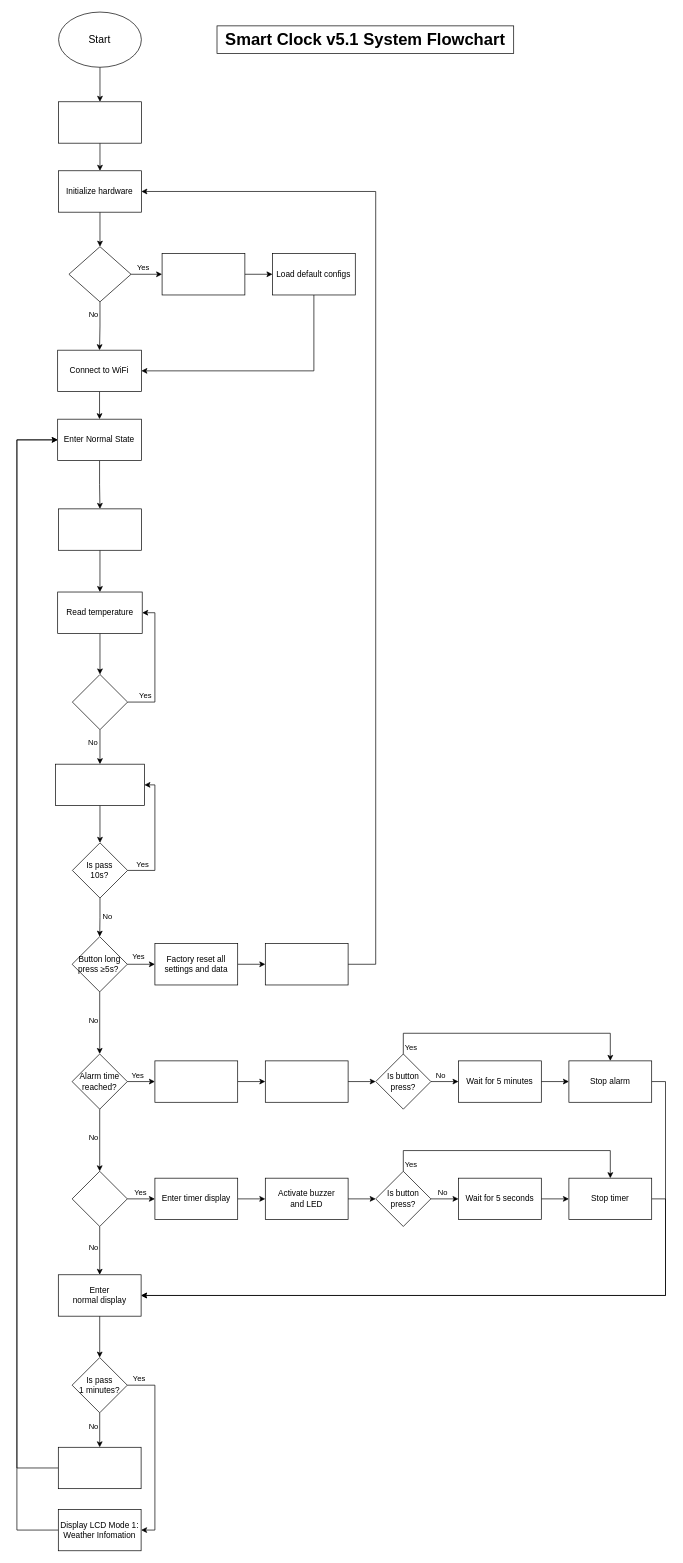
The diagram is 683 pixels wide and 1563 high, and some of its shapes have lost their labels. The shapes that lost their labels are listed below. From the top down, each one's centre as x and y in pixels, then its label:
At point 99,122: "Power on".
At point 99,274: "Check if first boot?".
At point 203,274: "Clear all setup data".
At point 99,529: "Handle web interface requests (alarms, timer, settings...)".
At point 100,702: "Is pass 5s?".
At point 99,784: "Fetch weather data".
At point 306,964: "Restart device".
At point 196,1081: "Enter alarm display".
At point 306,1081: "Active buzzer and LED".
At point 99,1198: "Timer finished?".
At point 99,1468: "Display LCD Mode 0: Clock + Temperature".
